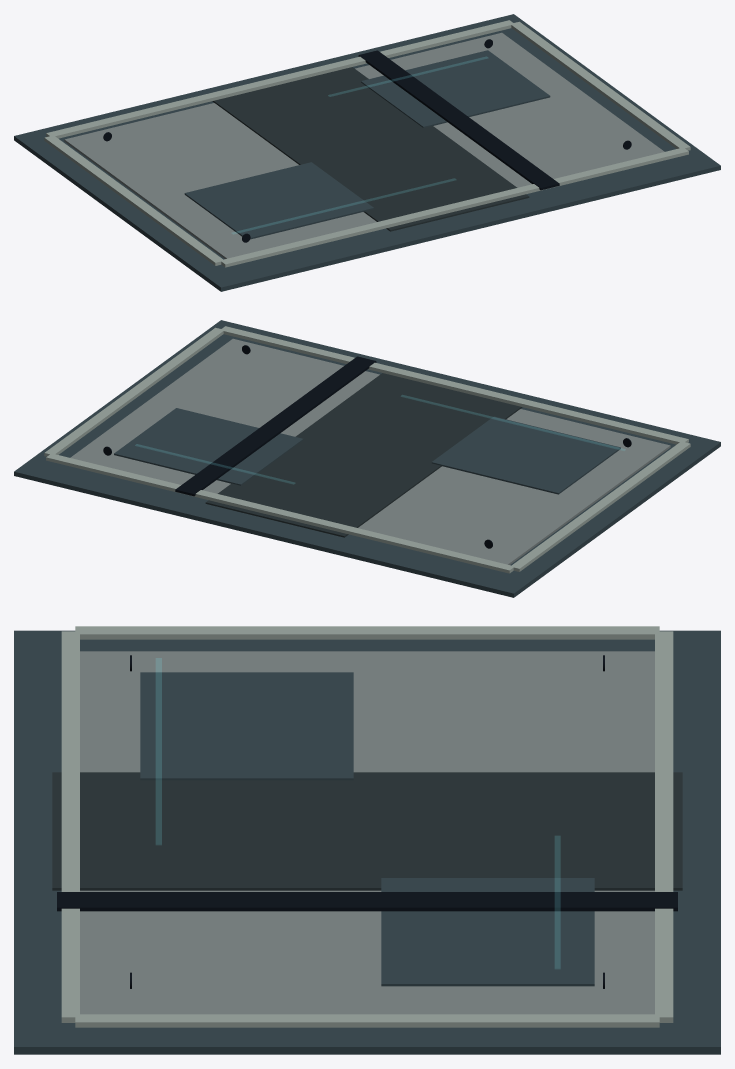
Rendered from hp_room_floor_tile_maintenance.glb.
3 views of the same model, one above another, from view 1: azimuth 30°, elevation 25°; view 2: azimuth 150°, elevation 25°; view 3: azimuth 270°, elevation 25° (orthographic). The views are drawn at different scales.
Parts seen in each view (by area): view 1: maintenance_floor_slab_base, maintenance_floor_cyan_line_a; view 2: maintenance_floor_slab_base, maintenance_floor_cyan_line_a; view 3: maintenance_floor_slab_base, maintenance_floor_cyan_line_a.
Boxes of the visible parts, x1=… form: maintenance_floor_slab_base: x1=14, y1=14, x2=720, y2=291; maintenance_floor_cyan_line_a: x1=232, y1=57, x2=487, y2=233; maintenance_floor_slab_base: x1=14, y1=320, x2=720, y2=597; maintenance_floor_cyan_line_a: x1=135, y1=395, x2=625, y2=483; maintenance_floor_slab_base: x1=14, y1=626, x2=720, y2=1054; maintenance_floor_cyan_line_a: x1=156, y1=658, x2=559, y2=968.
Bounding box in the file's own units: 4.25 × 0.1505 × 3.05.
Materials: 2 (2 with a texture image).
